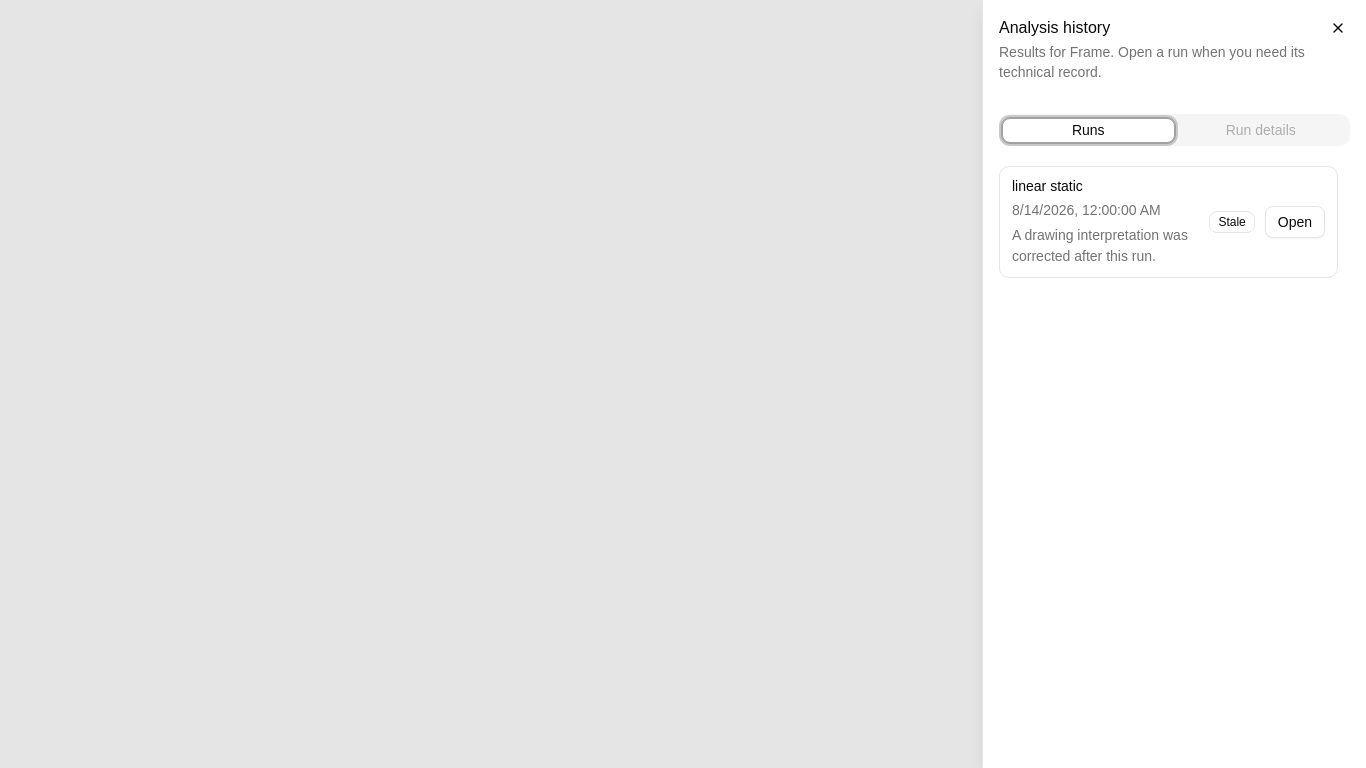
Test: AnalysisHistorySheet › shows canonical staleness and immutable run provenance
The image size is (1366, 768).
Expected: the text "Stale" is shown, top-left (1209, 211), bottom-right (1255, 233)
Click the button "Open". click: (1295, 222)
box: top-left (1265, 206), bottom-right (1325, 238)
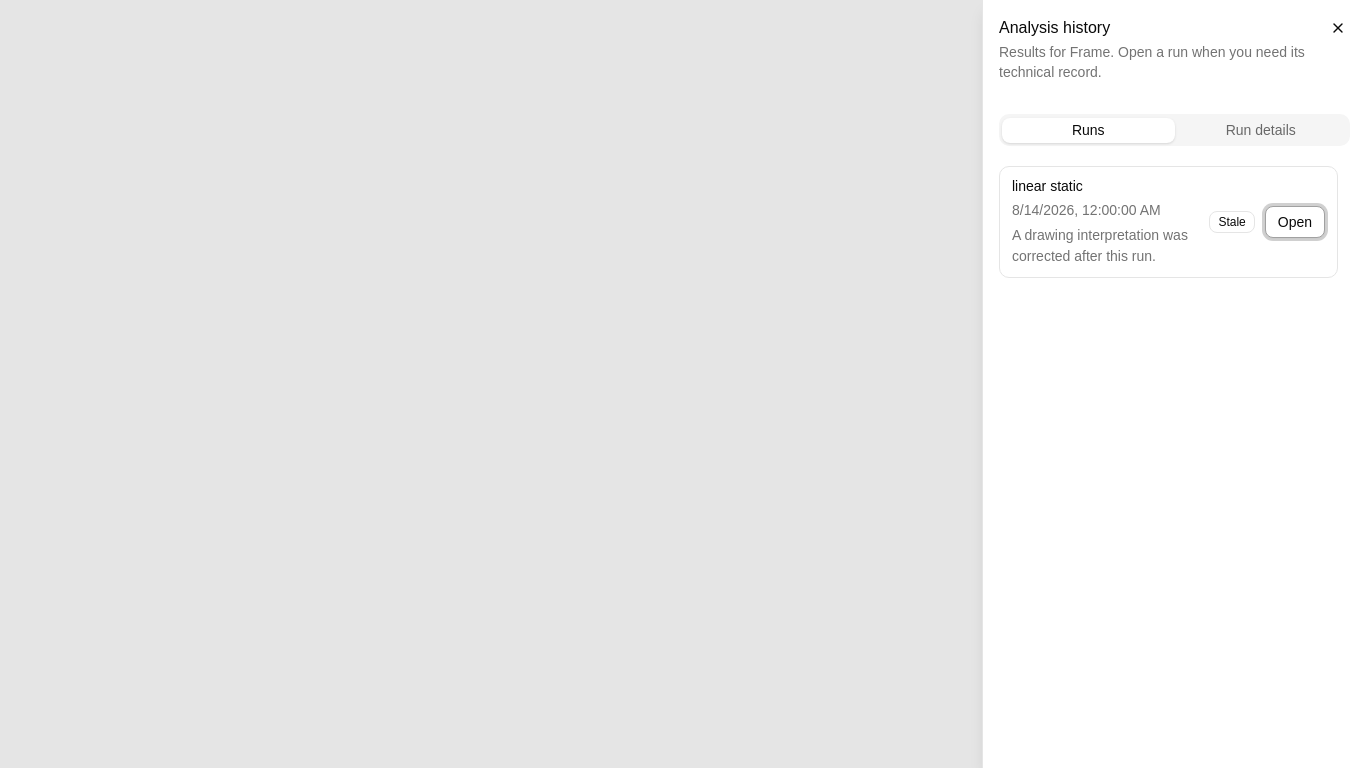
Click the tab "Run details". click: (1261, 130)
box: top-left (1174, 118), bottom-right (1347, 142)
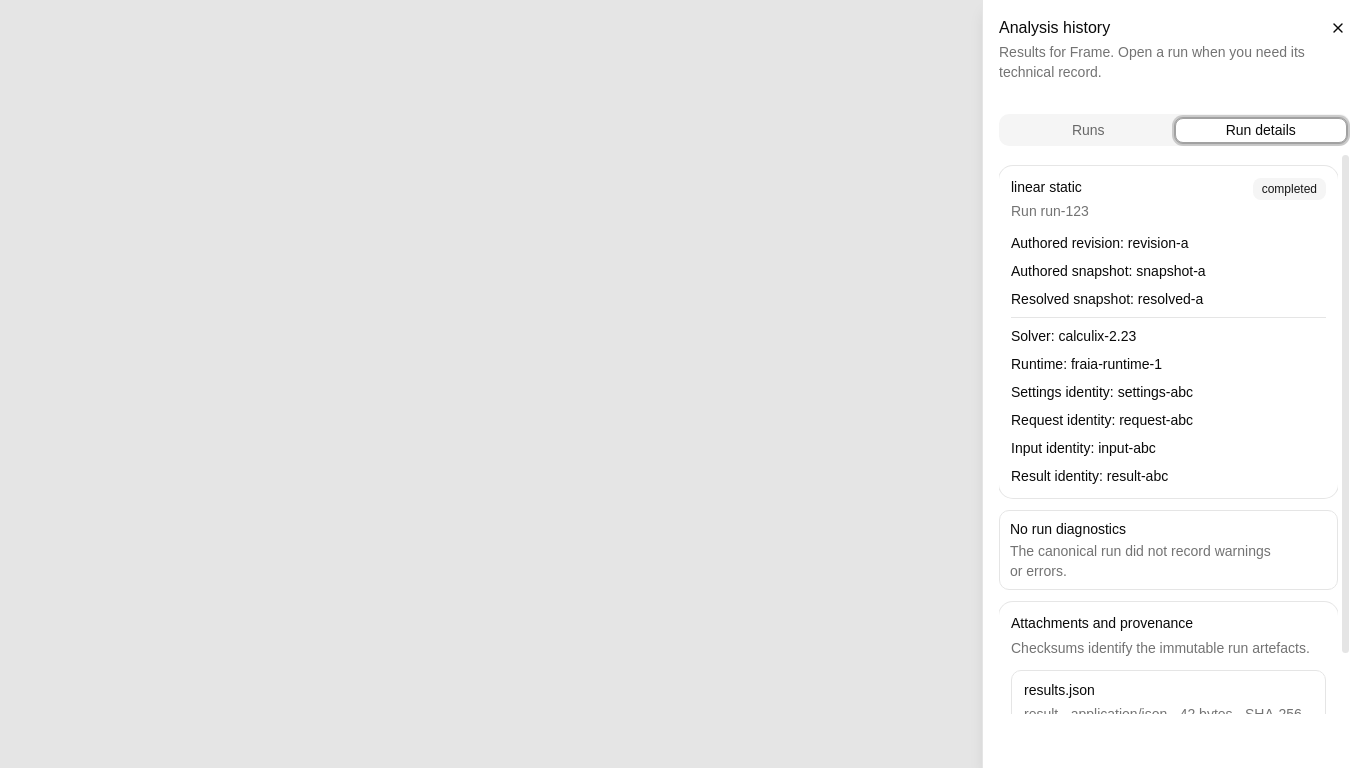
Result: the element with test id "canonical-run-details" shows "Solver: calculix-2.23" at top-left (999, 154), bottom-right (1338, 714)
Result: the element with test id "canonical-run-details" shows "Resolved snapshot: resolved-a" at top-left (999, 154), bottom-right (1338, 714)
